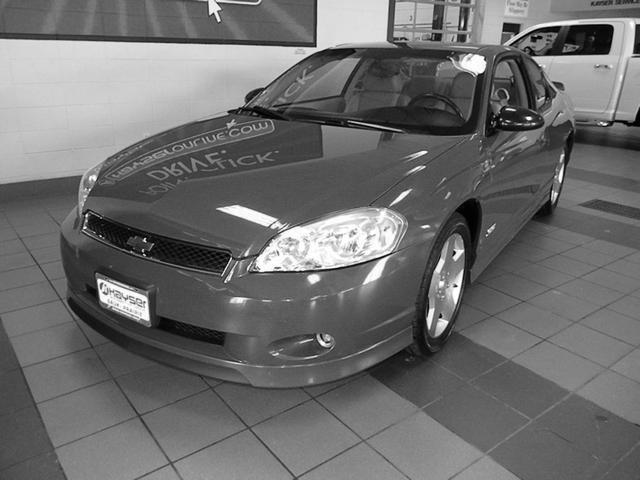car: (63, 44, 574, 394)
